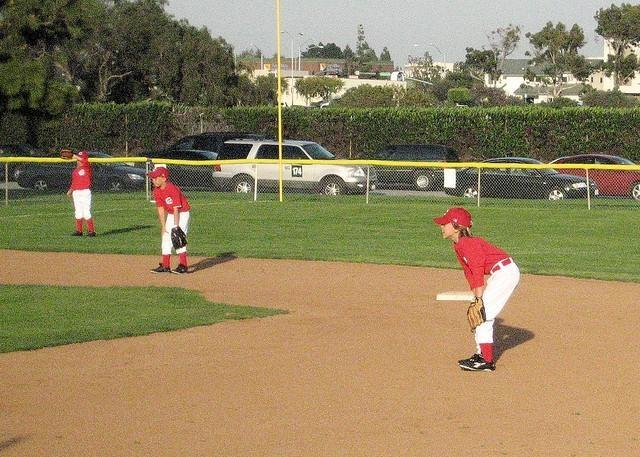car: (210, 140, 380, 197), (137, 132, 266, 192), (444, 155, 592, 196), (12, 152, 146, 192), (353, 146, 460, 190), (552, 156, 640, 202)
truck: (212, 139, 376, 194)
